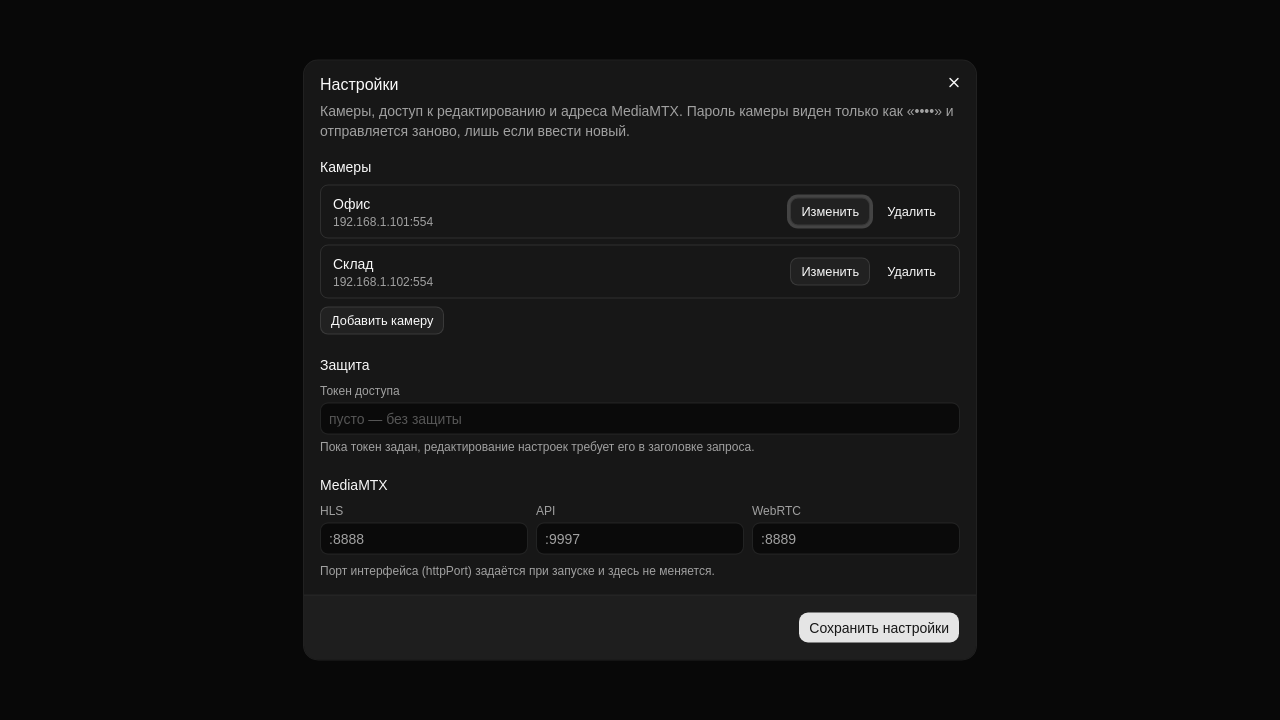
Test: SettingsDialog › removes a camera
This screenshot has width=1280, height=720.
Click the button "Удалить" in the row of "Офис" at {"x": 912, "y": 212}, box x1=876 y1=198 x2=947 y2=226
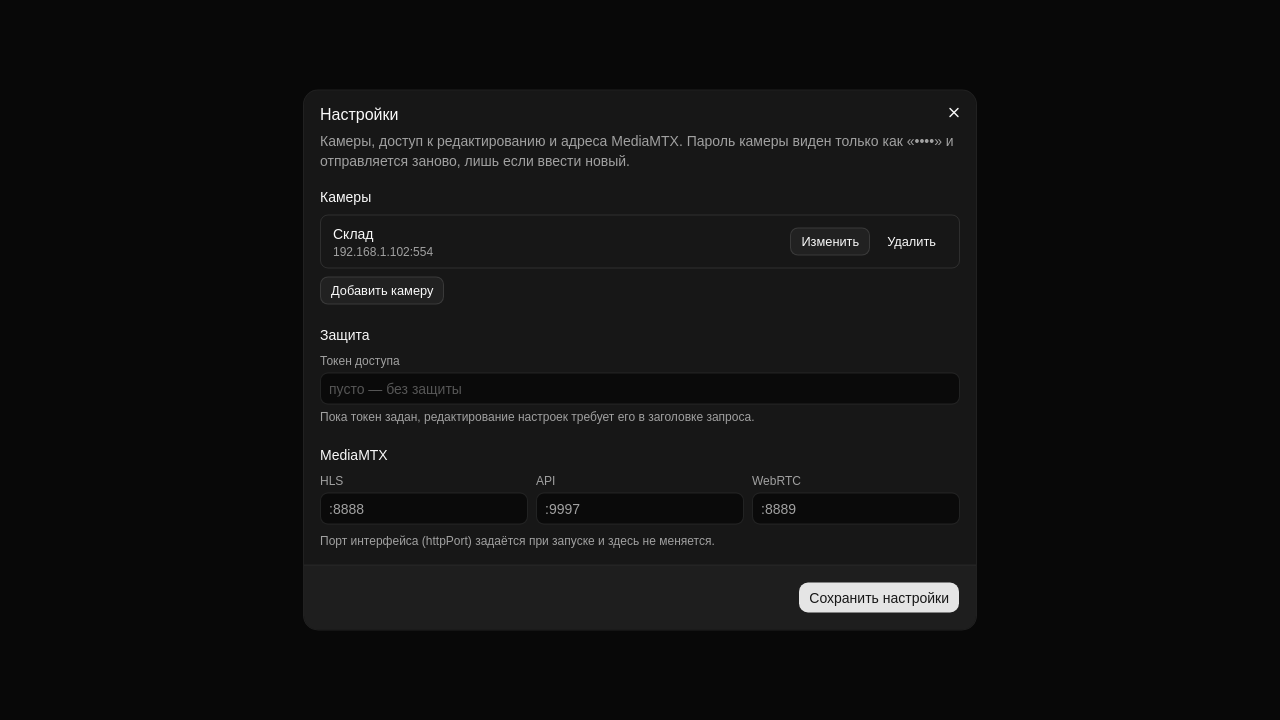
Expected: the text "Склад" is shown, x1=333 y1=226 x2=374 y2=242
Result: the text "Офис" is gone
